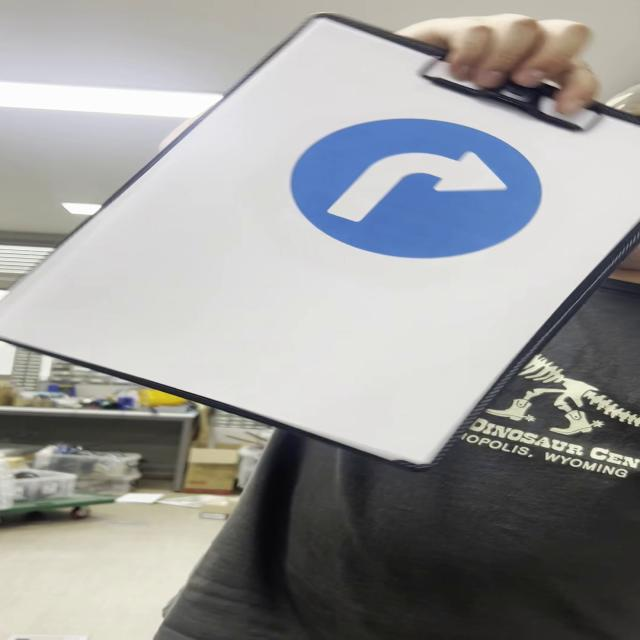right: (294, 121, 542, 257)
